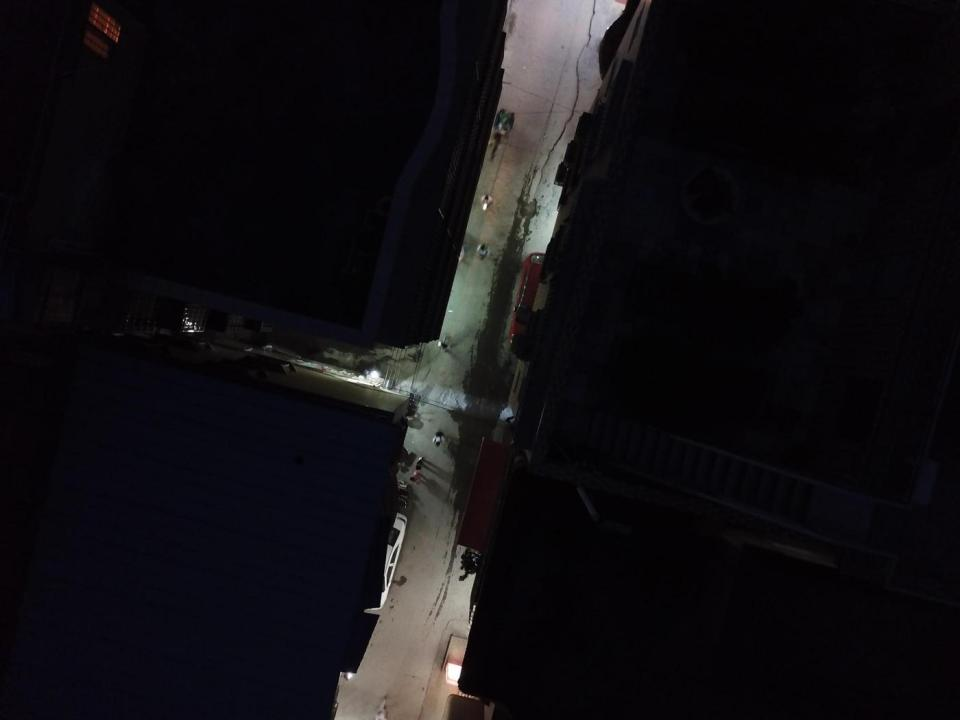car: (343, 508, 408, 610), (508, 252, 558, 350)
